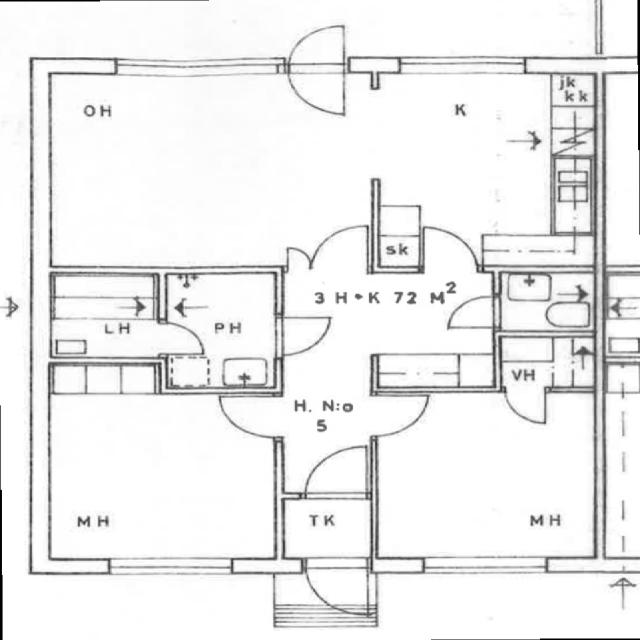door: (42, 388, 279, 563), (285, 21, 349, 119), (301, 560, 375, 617), (302, 442, 373, 499), (274, 311, 338, 362), (215, 391, 278, 441), (372, 389, 434, 439), (308, 222, 372, 269), (419, 223, 479, 269), (441, 291, 504, 333), (501, 383, 551, 429), (155, 321, 207, 358), (278, 244, 317, 274), (552, 0, 596, 16)
window: (115, 58, 280, 81), (106, 554, 236, 582), (419, 556, 550, 580), (395, 55, 525, 79)
zone: (35, 67, 360, 272), (364, 69, 602, 266), (41, 375, 279, 569), (371, 386, 600, 565), (167, 271, 283, 392), (50, 274, 162, 364), (496, 271, 597, 334), (279, 496, 375, 561), (497, 334, 596, 392), (374, 204, 423, 274)
